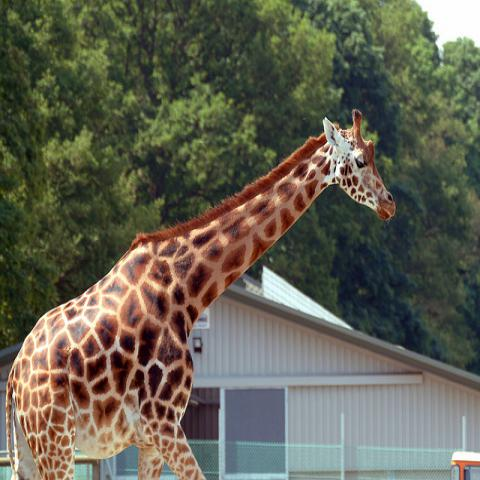truck: (449, 451, 479, 479)
